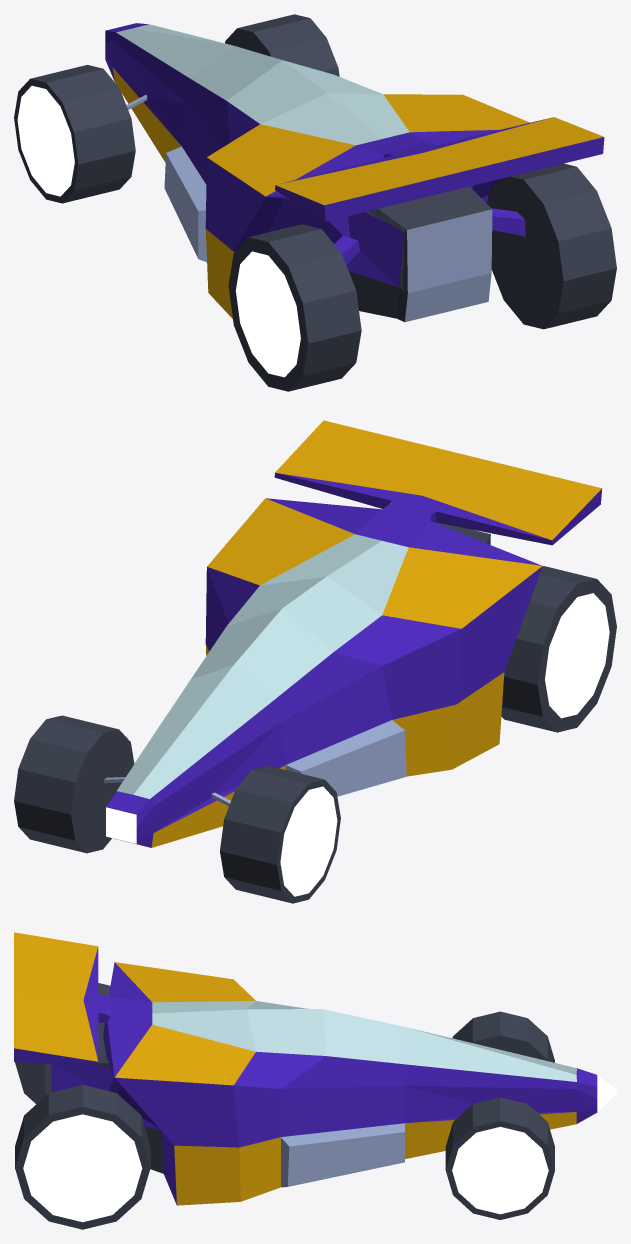
Rendered from third_model_Shadow_Jet - Copy.glb.
The picture shows the model from 3 angles, top to bottom: view 1: azimuth 30°, elevation 25°; view 2: azimuth 150°, elevation 25°; view 3: azimuth 270°, elevation 25°; orthographic projection. The views are drawn at different scales.
Visible parts, largest first — view 1: Cube.001, Cylinder.001, Cylinder, Cylinder.003, Cylinder.002; view 2: Cube.001, Cylinder.001, Cylinder.003, Cylinder.002; view 3: Cube.001, Cylinder, Cylinder.002, Cylinder.003, Cylinder.001.
Boxes of the visible parts, <box> form: Cube.001: <box>105,23,604,322</box>; Cylinder.001: <box>228,224,361,391</box>; Cylinder: <box>487,163,616,329</box>; Cylinder.003: <box>14,65,135,203</box>; Cylinder.002: <box>225,14,339,76</box>; Cube.001: <box>104,420,602,847</box>; Cylinder.001: <box>501,566,616,732</box>; Cylinder.003: <box>220,765,340,903</box>; Cylinder.002: <box>14,715,134,853</box>; Cube.001: <box>14,932,616,1205</box>; Cylinder: <box>15,1085,150,1229</box>; Cylinder.002: <box>445,1097,554,1219</box>; Cylinder.003: <box>452,1011,554,1062</box>; Cylinder.001: <box>15,983,110,1104</box>.
Bounding box in the file's own units: 2.43 × 1.56 × 4.85.
